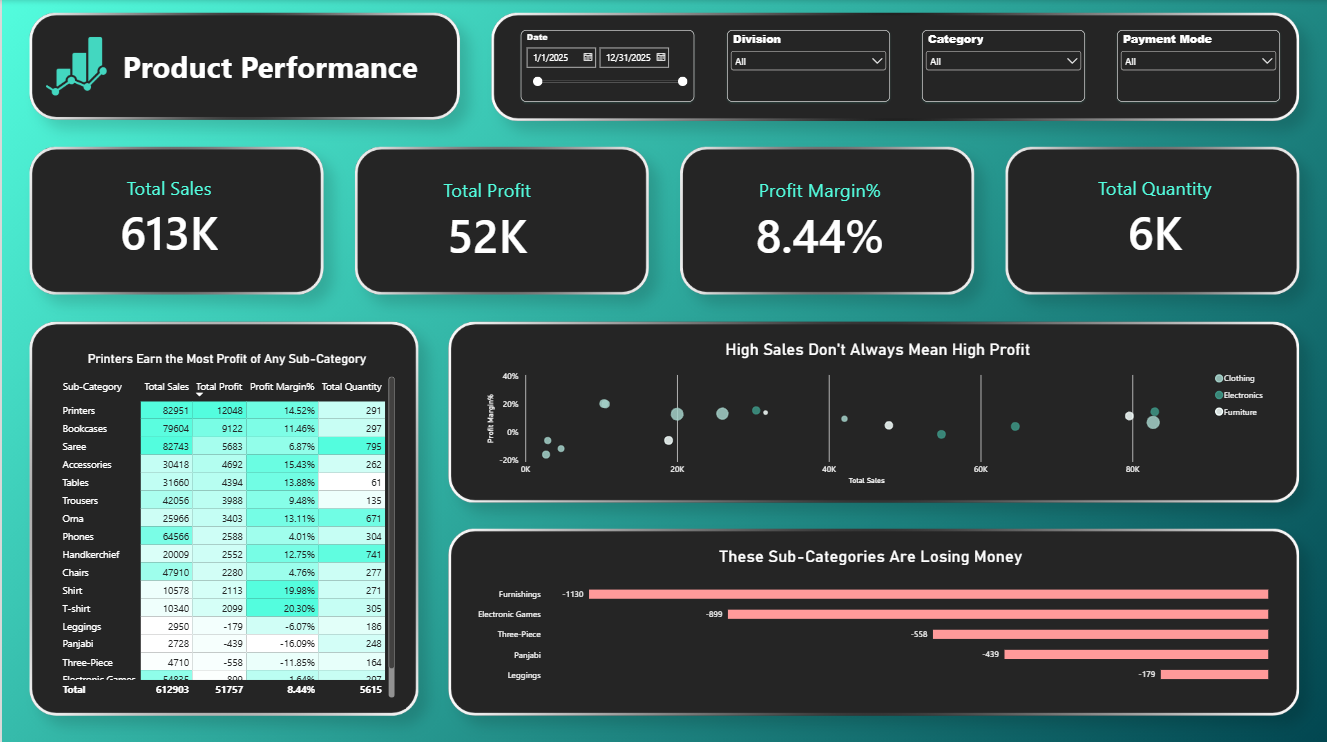

What the dashboard file says about the page in this screenshot:
{"tool":"powerbi","page":{"name":"Product Performance","canvas":[1920,1080],"ordinal":1},"visuals":[{"type":"slicer","fields":{"Values":["Calendar.Date"]},"box":[751,43.3,251,103.9],"z":0},{"type":"slicer","fields":{"Values":["Product.Category"]},"box":[1331.7,43.3,235.9,103.9],"z":1000},{"type":"slicer","fields":{"Values":["Location.State "]},"box":[1048.9,43.3,235.9,103.9],"z":2000},{"type":"slicer","fields":{"Values":["Sales.PaymentMode"]},"box":[1614.5,43.3,235.9,103.9],"z":3000},{"type":"textbox","box":[139.3,67,499.9,248.9],"z":4000},{"type":"cardVisual","fields":{"Data":["Calculation.Total Sales"]},"box":[67.1,246.7,350.6,142.8],"z":5000},{"type":"cardVisual","fields":{"Data":["Calculation.Total Profit"]},"box":[528.1,246.7,348.4,149.3],"z":6000},{"type":"cardVisual","fields":{"Data":["Calculation.Profit Margin%"]},"box":[1002,246.7,363.6,149.3],"z":7000},{"type":"cardVisual","fields":{"Data":["Calculation.Total Quantity"]},"box":[1486.8,242.4,363.6,149.3],"z":8000},{"type":"pivotTable","title":"Printers Earn the Most Profit of Any Sub-Category","fields":{"Rows":["Product.Sub-Category"],"Values":["Calculation.Total Sales","Calculation.Total Profit","Calculation.Profit Margin%","Calculation.Total Quantity"]},"box":[67,494,517.6,532],"z":9000},{"type":"scatterChart","title":"High Sales Don''t Always Mean High Profit","fields":{"Category":["Product.Sub-Category"],"Series":["Product.Category"],"Size":["Calculation.Total Quantity"],"X":["Calculation.Total Sales"],"Y":["Calculation.Profit Margin%"]},"box":[686.6,477.9,1164.5,240],"z":9001},{"type":"clusteredBarChart","title":"These Sub-Categories Are Losing Money","fields":{"Category":["Product.Sub-Category"],"Y":["Calculation.Total Profit"]},"box":[666,776.3,1183.5,235.3],"z":9002}]}

Visuals, with their boxes in screenshot pixels (x1, y1, x2, y2), scaled from the page's 1920x1080 canvas onto the 1327x742 screenshot:
slicer - Calendar.Date: 519, 30, 693, 101
slicer - Product.Category: 920, 30, 1083, 101
slicer - Location.State : 725, 30, 888, 101
slicer - Sales.PaymentMode: 1116, 30, 1279, 101
textbox: 96, 46, 442, 217
cardVisual - Calculation.Total Sales: 46, 169, 289, 268
cardVisual - Calculation.Total Profit: 365, 169, 606, 272
cardVisual - Calculation.Profit Margin%: 693, 169, 944, 272
cardVisual - Calculation.Total Quantity: 1028, 167, 1279, 269
"Printers Earn the Most Profit of Any Sub-Category" pivotTable: 46, 339, 404, 705
"High Sales Don''t Always Mean High Profit" scatterChart: 475, 328, 1279, 493
"These Sub-Categories Are Losing Money" clusteredBarChart: 460, 533, 1278, 695
